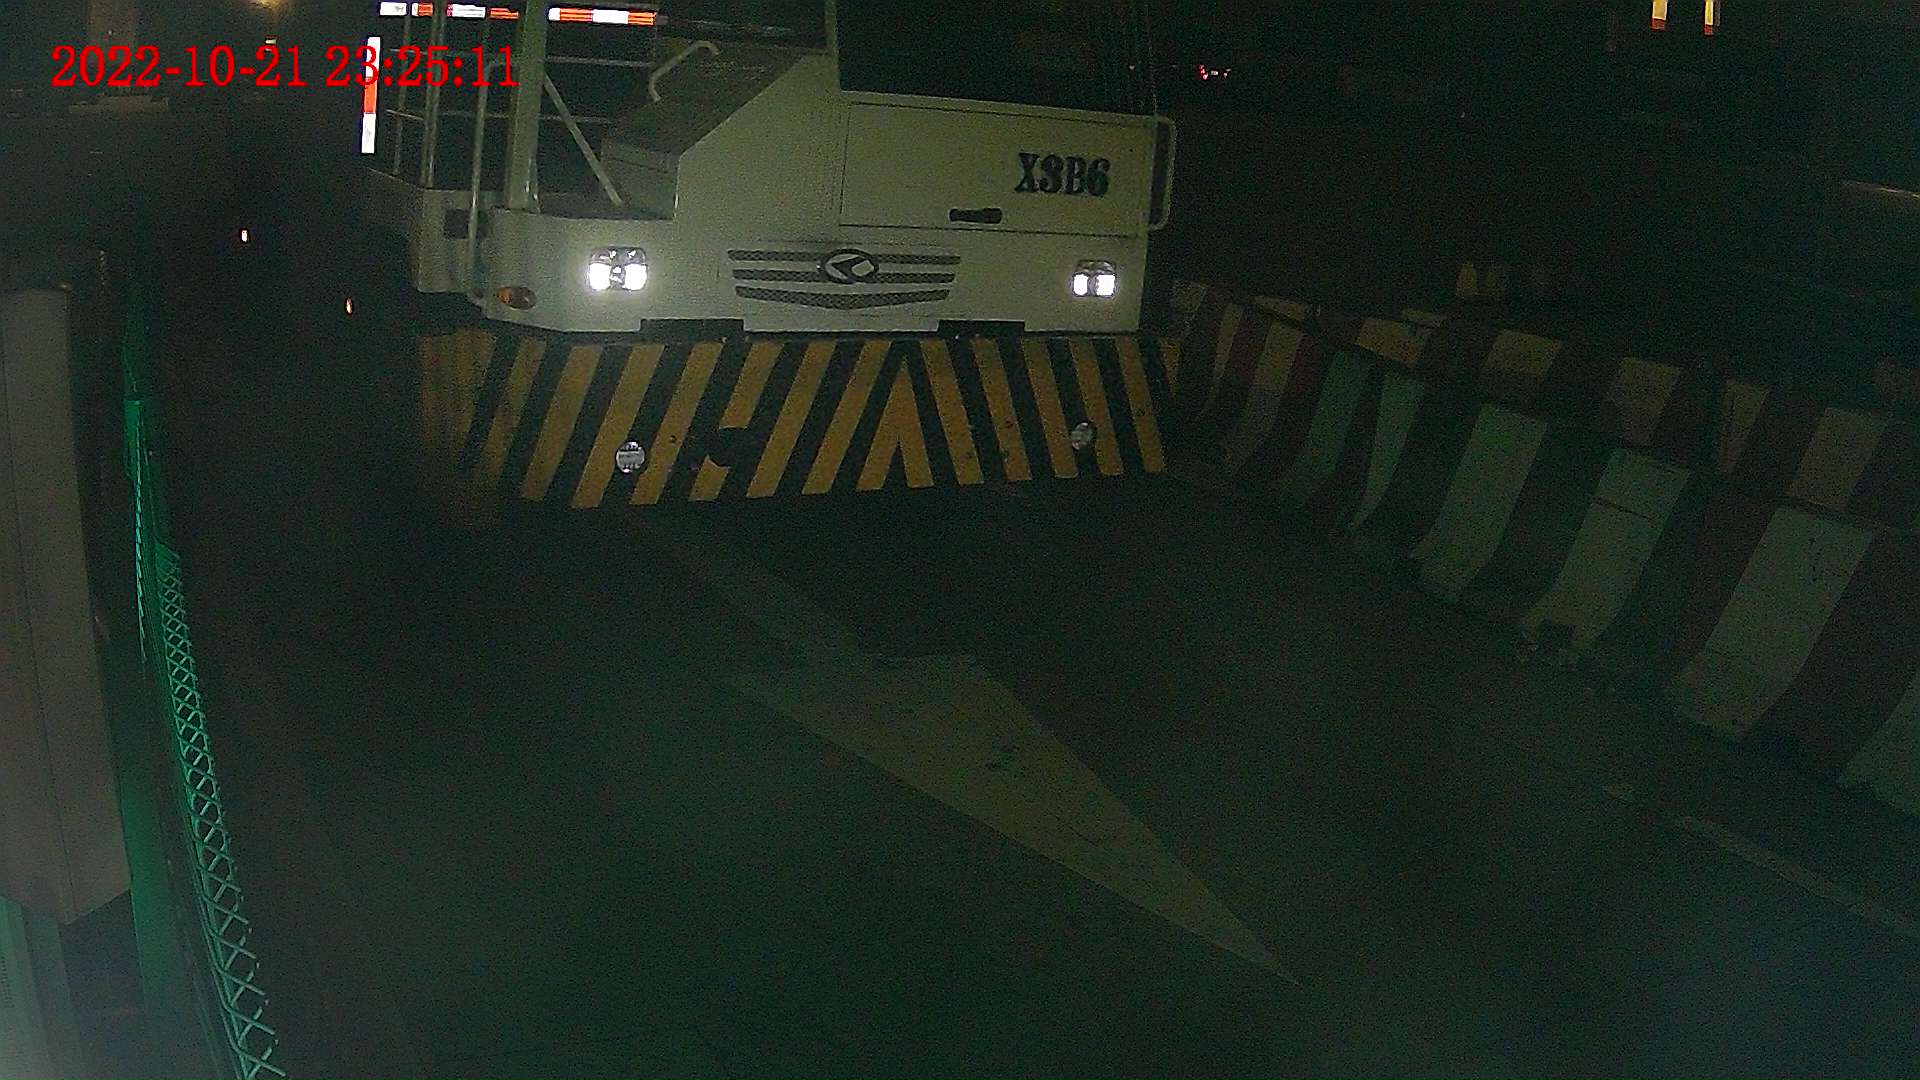head: (375, 1, 1176, 505)
